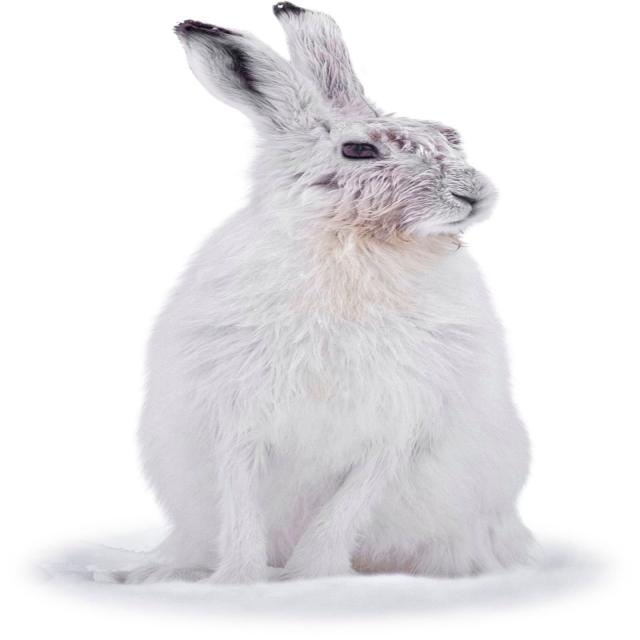hare: (114, 2, 538, 584)
